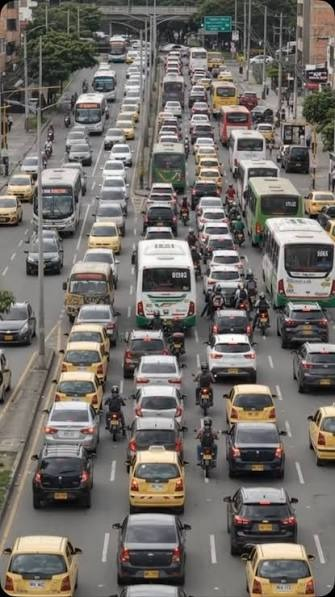car: (5, 1, 335, 577), (31, 67, 324, 455), (12, 216, 335, 550), (27, 20, 309, 336), (270, 224, 333, 335), (116, 512, 186, 592), (236, 523, 317, 587), (34, 424, 98, 502), (137, 236, 194, 316), (3, 536, 80, 592), (4, 537, 79, 594), (39, 404, 101, 471), (33, 448, 97, 511), (228, 490, 298, 545), (127, 448, 186, 513), (245, 547, 317, 597), (227, 390, 283, 453), (128, 435, 184, 496), (57, 350, 105, 416), (44, 395, 100, 450), (54, 367, 103, 429), (229, 425, 288, 476), (60, 336, 107, 400), (49, 388, 101, 436), (36, 172, 79, 230), (131, 398, 182, 446), (132, 387, 183, 433), (22, 221, 63, 276), (206, 342, 259, 384), (134, 353, 182, 399), (69, 252, 115, 300), (294, 340, 335, 393), (68, 314, 114, 361), (228, 386, 278, 429), (128, 336, 172, 384), (129, 415, 180, 456), (207, 245, 243, 303), (65, 324, 110, 370), (132, 377, 182, 417), (4, 163, 39, 218), (208, 330, 256, 370), (209, 315, 254, 357), (132, 348, 180, 385), (126, 328, 168, 370), (232, 132, 268, 181), (143, 186, 177, 236), (216, 102, 249, 152), (127, 317, 164, 360), (1, 297, 33, 346), (207, 265, 242, 309), (12, 152, 44, 199), (1, 175, 31, 225), (308, 410, 335, 465), (279, 134, 312, 177), (279, 133, 312, 176), (212, 308, 252, 343), (163, 302, 195, 343), (107, 390, 132, 438), (74, 94, 109, 128)
